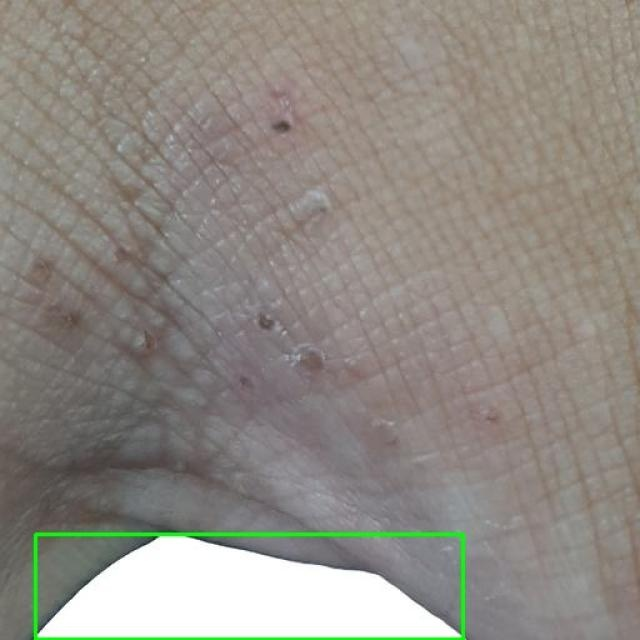Scabies: (35, 534, 462, 639)
